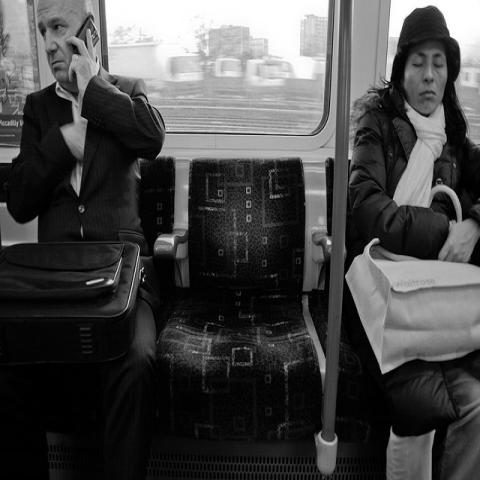car: (142, 54, 206, 98), (215, 59, 242, 78)
truck: (163, 55, 205, 97)
